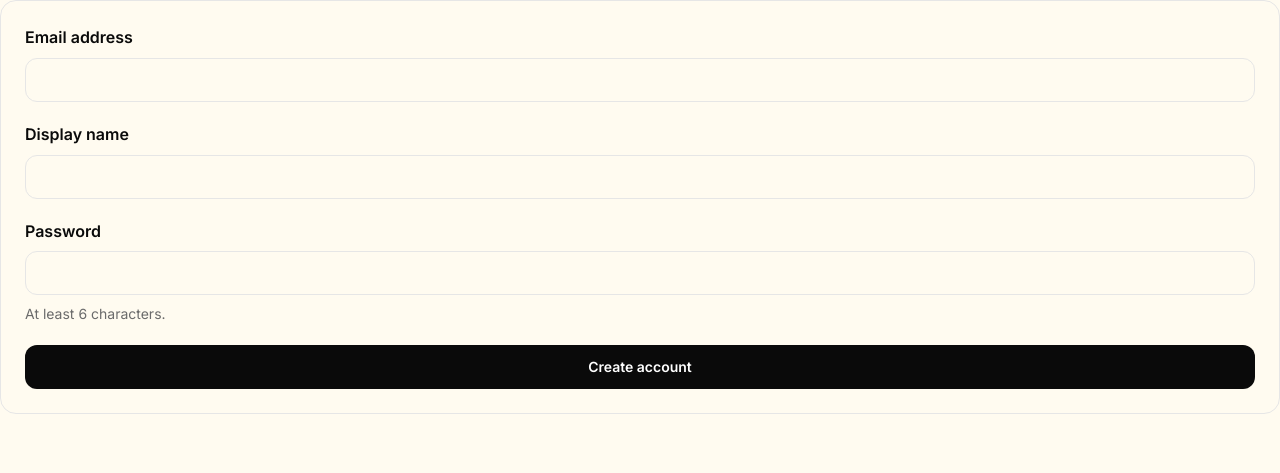
SignupForm › validates the email before attempting a signup
This screenshot has width=1280, height=473.
Click the button "Create account" at (640, 367), box [25,345,1255,389]
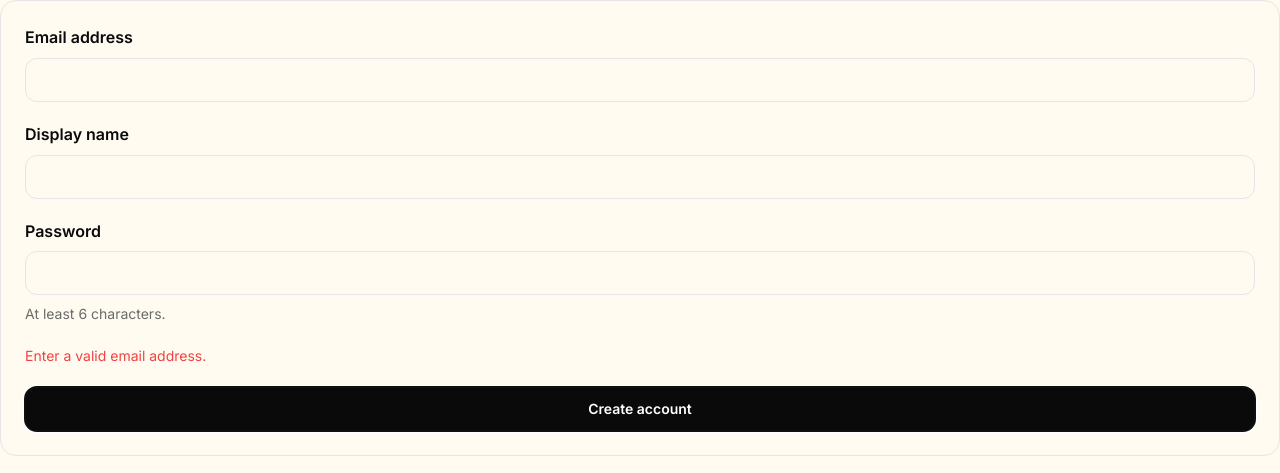
Check: the message reads "Enter a valid email address.", box [25,347,206,364]
